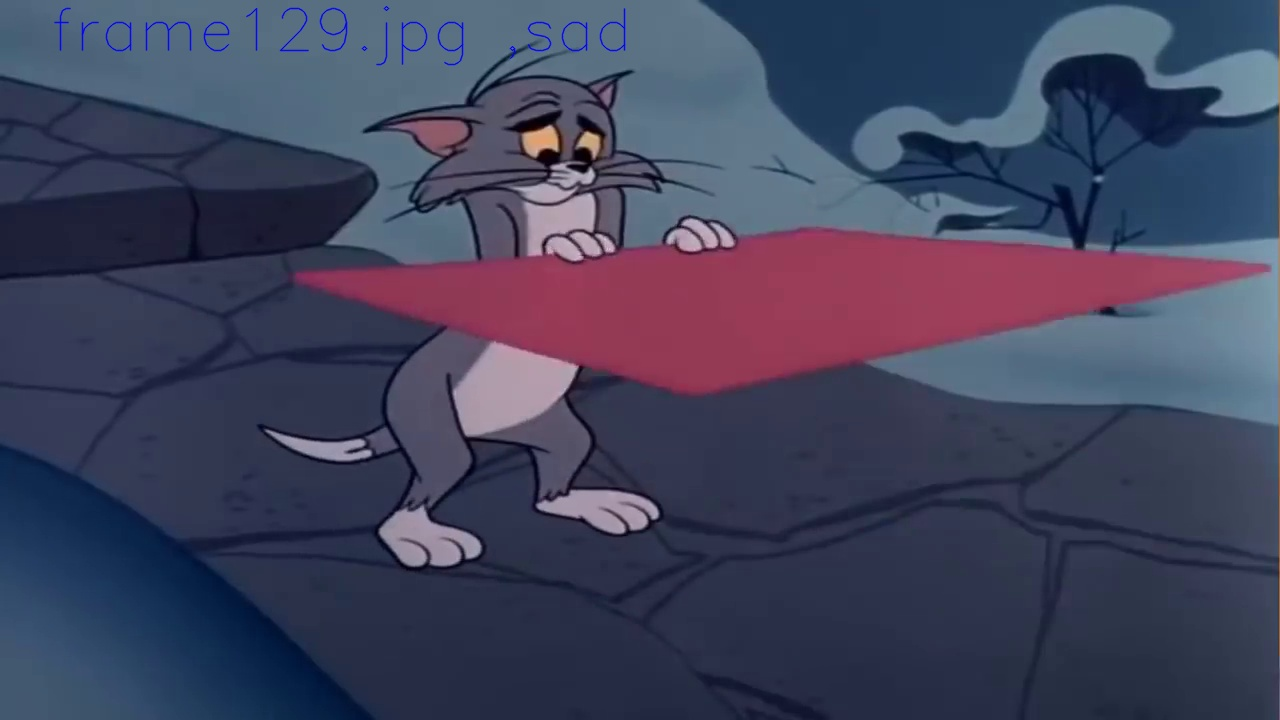sad: (511, 86, 607, 202)
